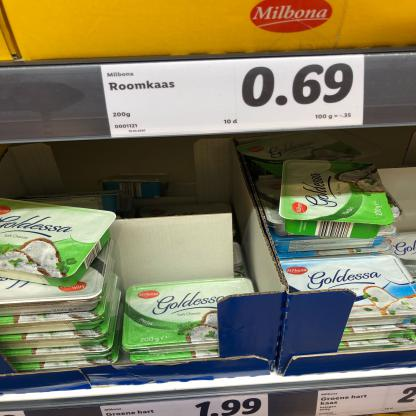prtg: (102, 56, 366, 139)
